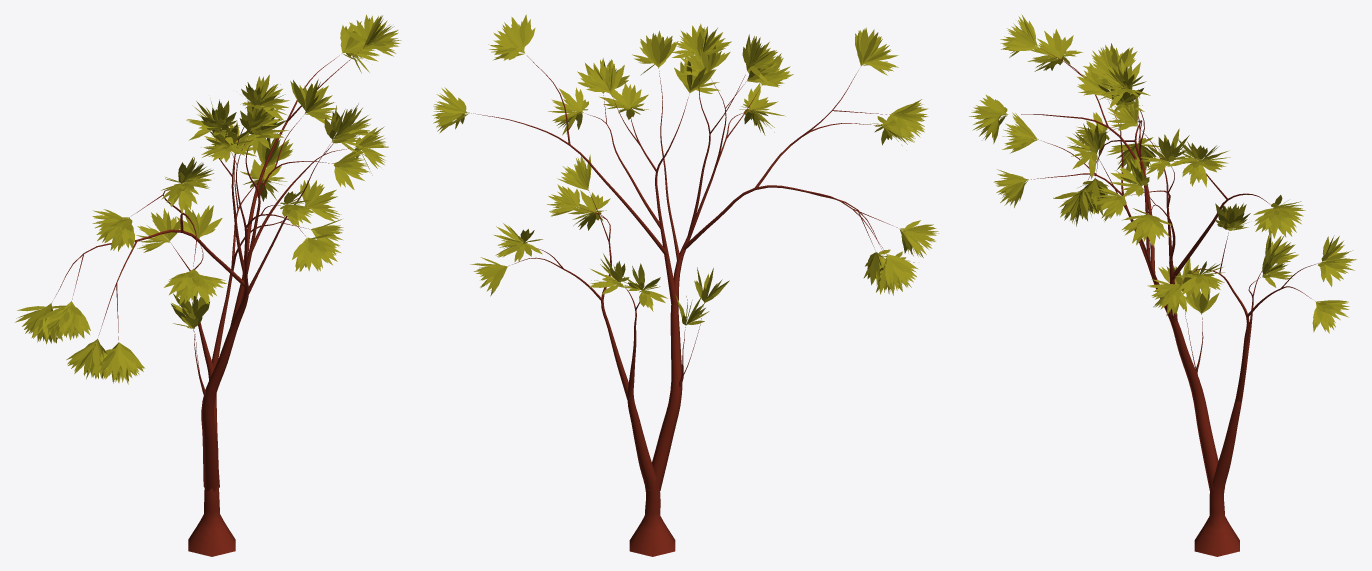
The model's file is tree3.fbx.
The picture shows the model from 3 angles, left to right: view 1: azimuth 30°, elevation 25°; view 2: azimuth 150°, elevation 25°; view 3: azimuth 270°, elevation 25°; orthographic projection. The views are drawn at different scales.
Visible parts, largest first — view 1: tree.001; view 2: tree.001; view 3: tree.001.
Boxes of the visible parts, x1,y1,x2,y2 form: tree.001: (15, 14, 401, 556); tree.001: (432, 14, 938, 556); tree.001: (969, 14, 1356, 556).
Bounding box in the file's own units: 359 × 400 × 294.
